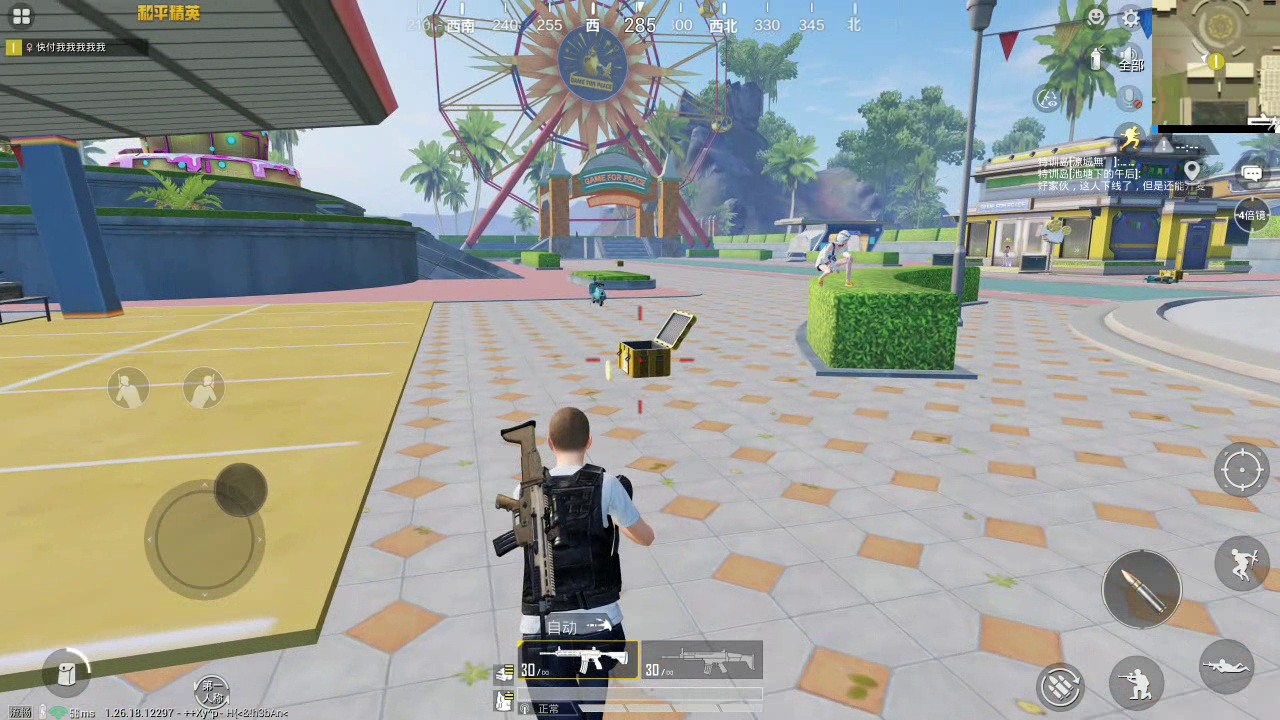enemy: (811, 230, 856, 286)
